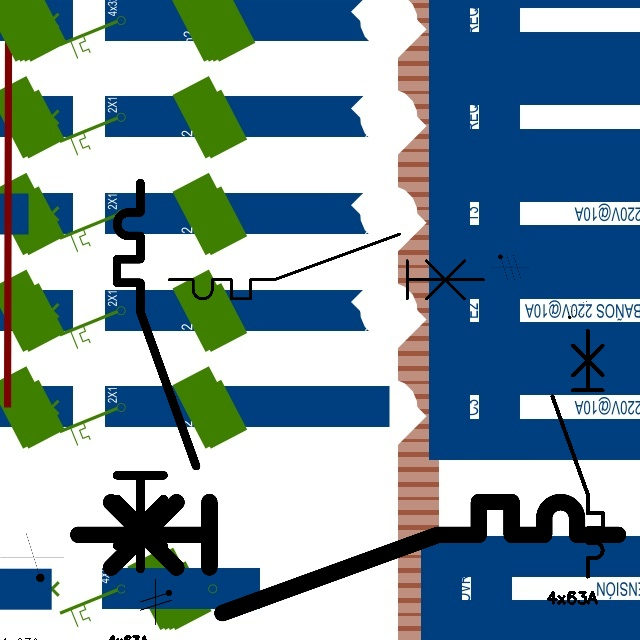interruptor_termomagnetico: (64, 488, 631, 627), (107, 173, 206, 579), (161, 226, 491, 307), (546, 324, 609, 583)
